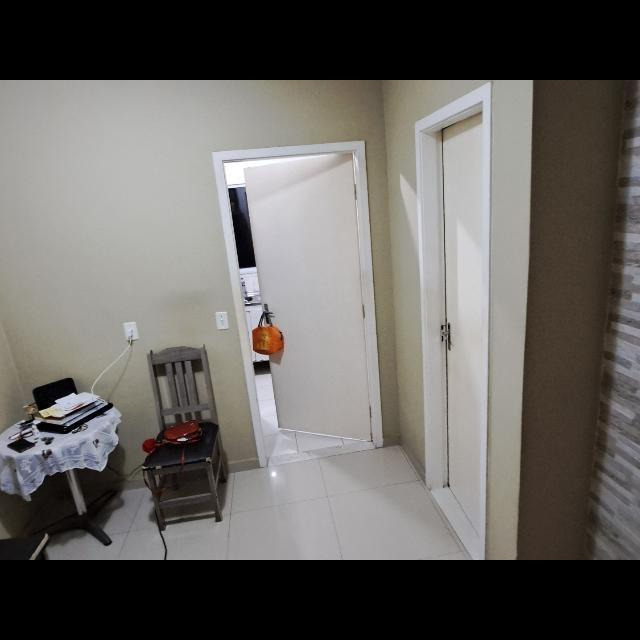door: (235, 154, 376, 443), (437, 109, 498, 538)
